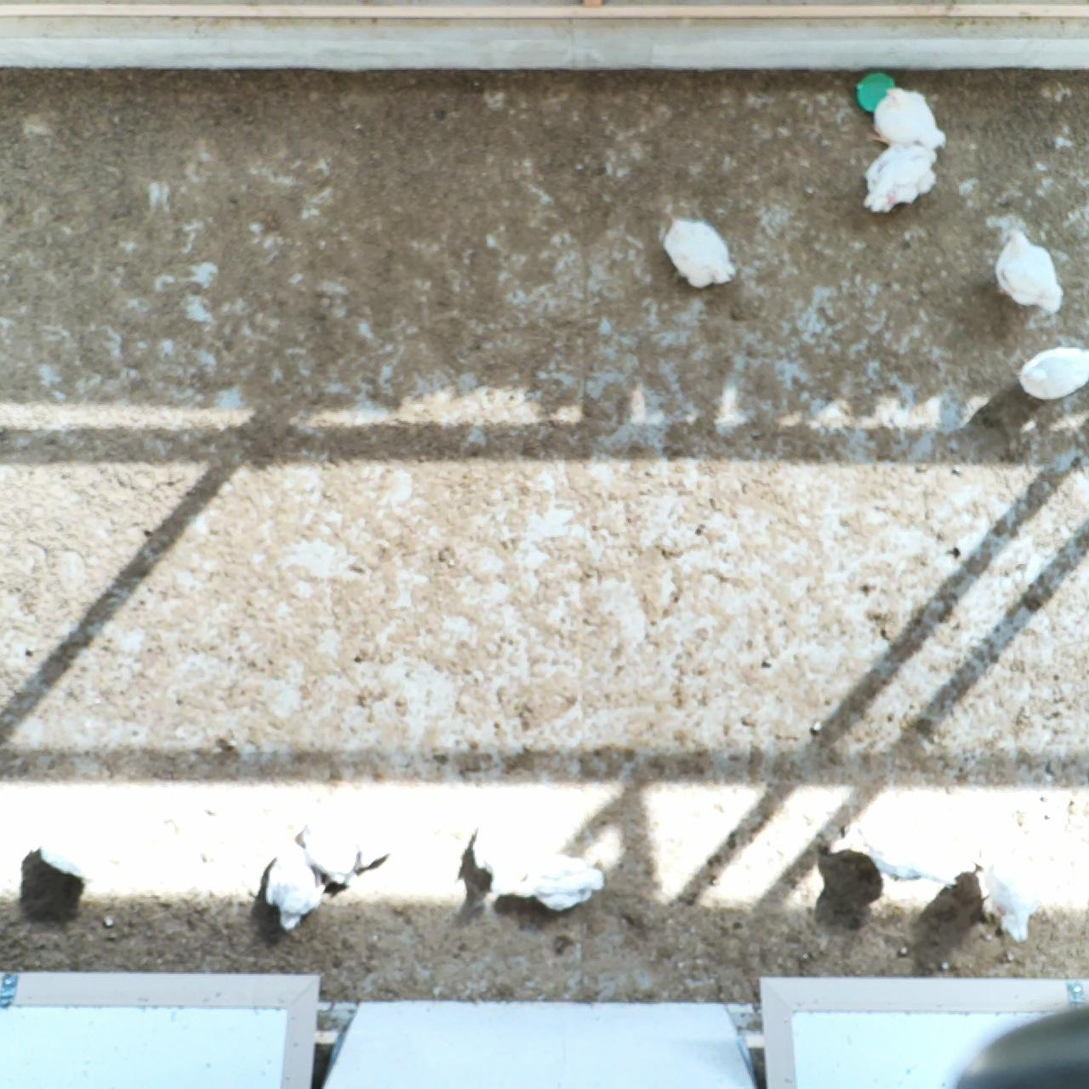chicken: (833, 795, 966, 888), (464, 789, 552, 890), (977, 834, 1055, 946), (990, 222, 1072, 316), (259, 837, 336, 935), (296, 783, 363, 892), (866, 82, 956, 158), (659, 211, 737, 296), (509, 850, 606, 914), (348, 794, 409, 881), (1012, 339, 1089, 405), (36, 816, 107, 885)
